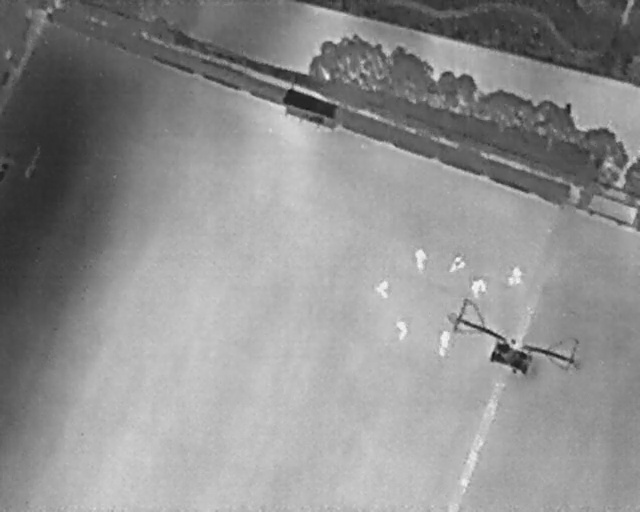Person: (465, 273, 490, 299), (503, 263, 526, 289), (445, 251, 467, 276), (436, 328, 453, 357), (415, 248, 427, 273), (374, 280, 389, 300), (394, 321, 408, 340)
